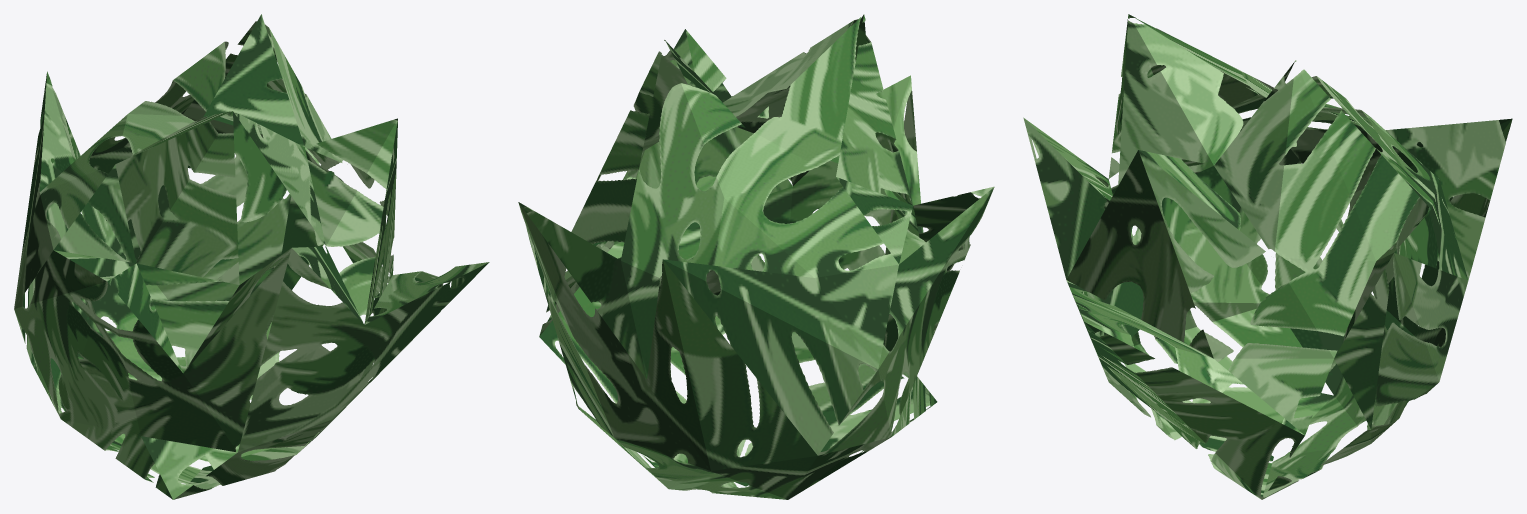
The model's file is Busch1 1.fbx.
3 renders of one model, left to right at view 1: azimuth 30°, elevation 25°; view 2: azimuth 150°, elevation 25°; view 3: azimuth 270°, elevation 25°, orthographic. The views are drawn at different scales.
Visible parts, largest first — view 1: busch; view 2: busch; view 3: busch.
Part boxes in pixels (x1=…): busch: x1=14, y1=14, x2=489, y2=499; busch: x1=518, y1=14, x2=994, y2=499; busch: x1=1023, y1=14, x2=1512, y2=499.
Bounding box in the file's own units: 216 × 244 × 252.
Materials: 1 (1 with a texture image).
